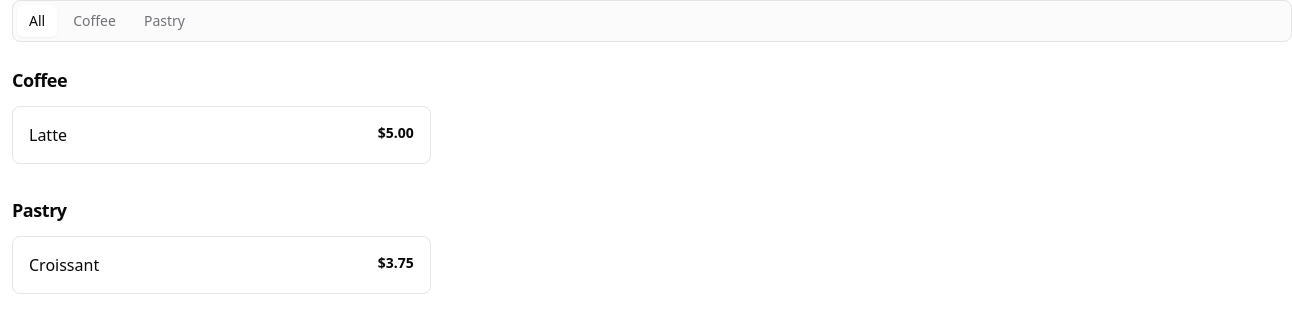
it: MenuBrowser filtering › shows every category, then narrows to the chosen one
Expected: the heading "Latte" is shown, [29, 123, 67, 147]
Expected: the heading "Croissant" is shown, [29, 253, 99, 277]
Click the button "Pastry" at (164, 21), box [132, 5, 197, 37]
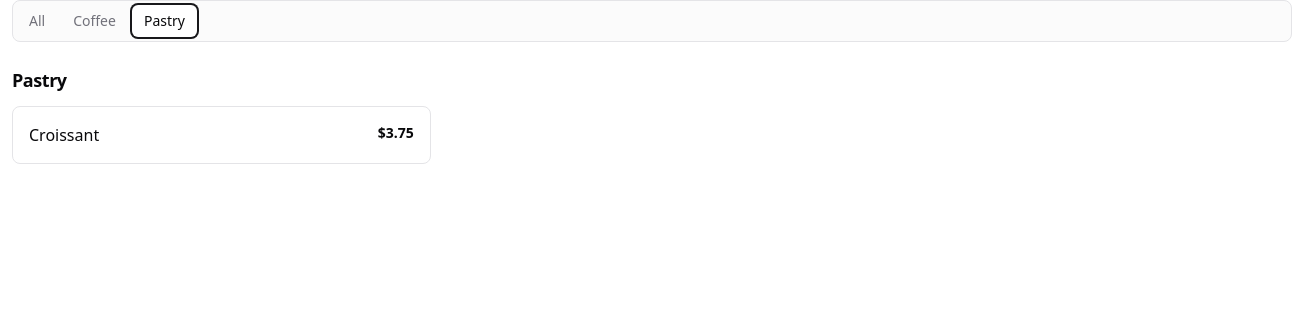
Expected: the heading "Croissant" is shown, [29, 123, 99, 147]
Result: the link "Latte" is gone
